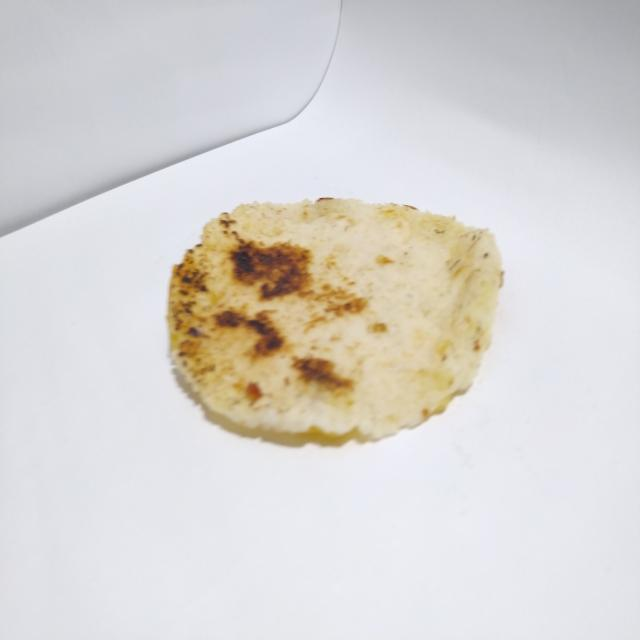Food: (157, 192, 509, 450)
